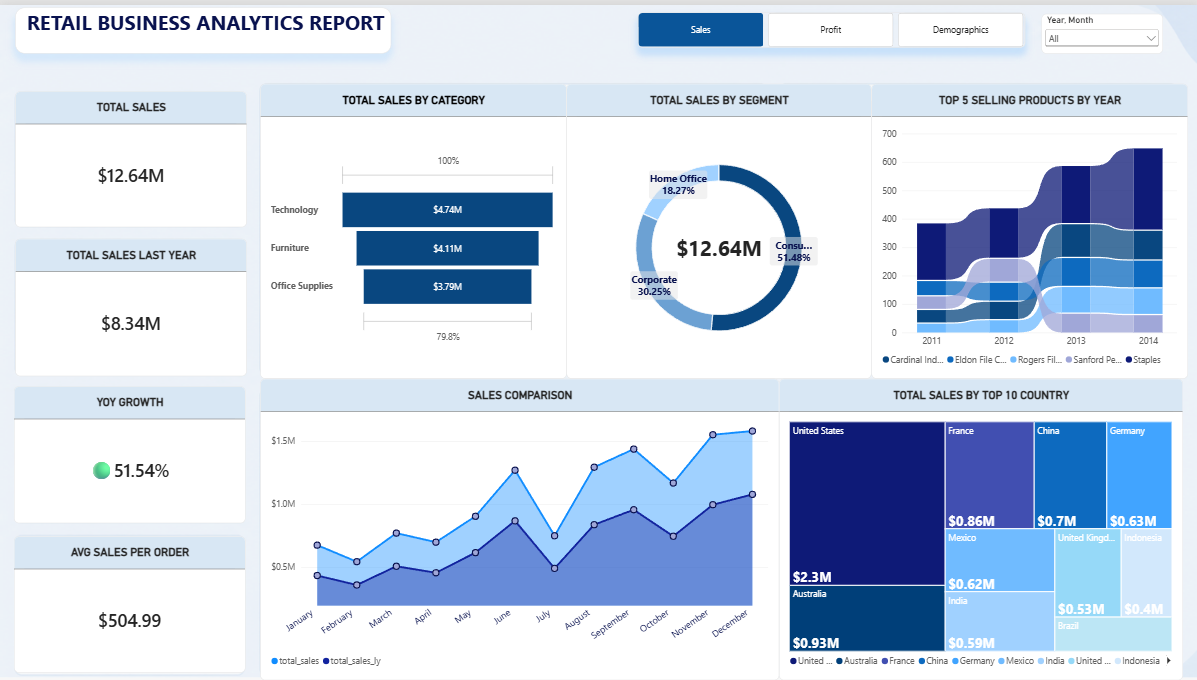

Layout of this report page (visuals, bound fields, positions):
{"tool":"powerbi","page":{"name":"Sales","canvas":[1920,1080],"ordinal":0},"visuals":[{"type":"pageNavigator","box":[1022,12,620,56],"z":0},{"type":"card","title":"TOTAL SALES","fields":{"Values":["calculated_table.total_sales"]},"box":[26.7,137.8,370,217.8],"z":1000},{"type":"card","title":"TOTAL SALES LAST YEAR","fields":{"Values":["calculated_table.total_sales_ly"]},"box":[26.7,374.4,370,220],"z":2000},{"type":"card","title":"YOY GROWTH","fields":{"Values":["calculated_table.yoy_growth"]},"box":[24.5,610,370,219.1],"z":3000},{"type":"card","title":"AVG SALES PER ORDER","fields":{"Values":["calculated_table.avg_sales_per_order"]},"box":[24,850,370,218],"z":4000},{"type":"funnel","title":"TOTAL SALES BY CATEGORY","fields":{"Category":["product_table.Category"],"Y":["calculated_table.total_sales"]},"box":[418,126,490,472],"z":5000},{"type":"donutChart","title":"TOTAL SALES BY SEGMENT","fields":{"Category":["customer_table.Segment"],"Y":["calculated_table.total_sales"]},"box":[908,126,488,472],"z":6000},{"type":"lineChart","title":"SALES COMPARISON","fields":{"Category":["date-table.Date.Variation.Date Hierarchy.Month"],"Y":["calculated_table.total_sales","calculated_table.total_sales_ly"]},"box":[418,598,830,482],"z":7000},{"type":"slicer","fields":{"Values":["date-table.Date.Variation.Date Hierarchy.Year","date-table.Date.Variation.Date Hierarchy.Month"]},"box":[1668,14,194,64],"z":8000},{"type":"ribbonChart","title":"TOP 5 SELLING PRODUCTS BY YEAR","fields":{"Category":["date-table.Date.Variation.Date Hierarchy.Year"],"Series":["product_table.Product Name"],"Y":["calculated_table.total_quantity"]},"box":[1396,126,506,472],"z":9000},{"type":"treemap","title":"TOTAL SALES BY TOP 10 COUNTRY","fields":{"Group":["location_table.Country"],"Values":["calculated_table.total_sales"]},"box":[1248,598,646,482],"z":10000},{"type":"textbox","box":[26,4,601.7,73.3],"z":11001}]}

Visuals, with their boxes in screenshot pixels (x1, y1, x2, y2), scaled from the page's 1920x1080 canvas onto the 1197x680 screenshot:
pageNavigator: <region>637, 8, 1024, 43</region>
"TOTAL SALES" card: <region>17, 87, 247, 224</region>
"TOTAL SALES LAST YEAR" card: <region>17, 236, 247, 374</region>
"YOY GROWTH" card: <region>15, 384, 246, 522</region>
"AVG SALES PER ORDER" card: <region>15, 535, 246, 672</region>
"TOTAL SALES BY CATEGORY" funnel: <region>261, 79, 566, 377</region>
"TOTAL SALES BY SEGMENT" donutChart: <region>566, 79, 870, 377</region>
"SALES COMPARISON" lineChart: <region>261, 377, 778, 679</region>
slicer - date-table.Date.Variation.Date Hierarchy.Year x date-table.Date.Variation.Date Hierarchy.Month: <region>1040, 9, 1161, 49</region>
"TOP 5 SELLING PRODUCTS BY YEAR" ribbonChart: <region>870, 79, 1186, 377</region>
"TOTAL SALES BY TOP 10 COUNTRY" treemap: <region>778, 377, 1181, 679</region>
textbox: <region>16, 3, 391, 49</region>
